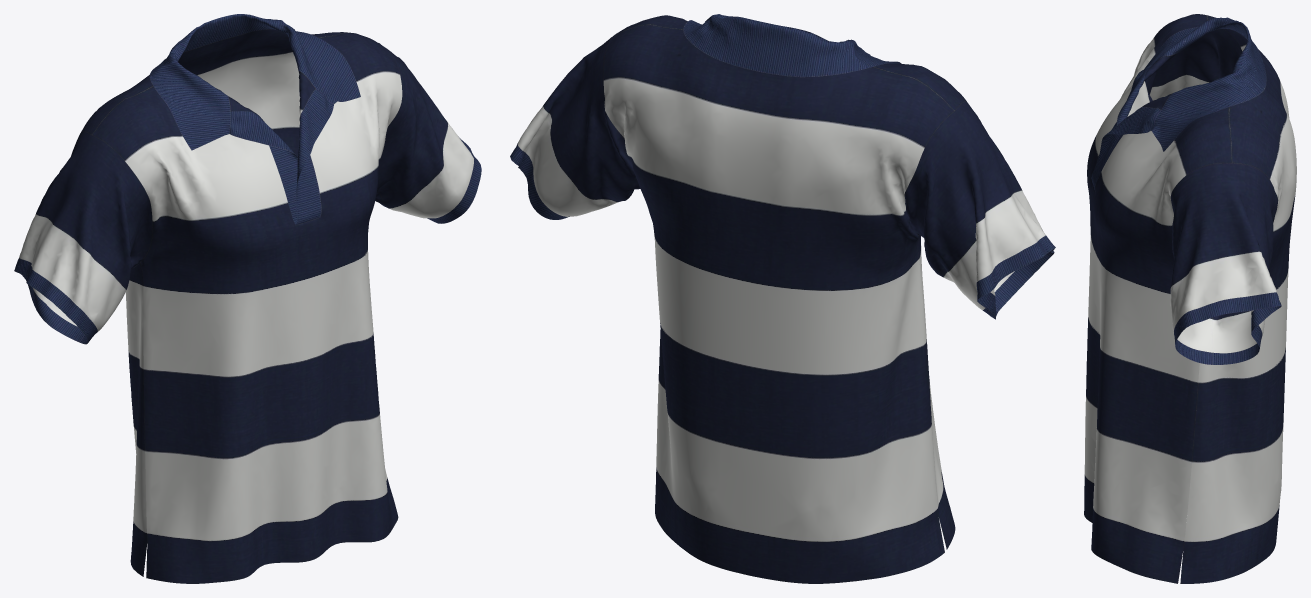
3 views of the same model, side by side, from view 1: azimuth 30°, elevation 25°; view 2: azimuth 150°, elevation 25°; view 3: azimuth 270°, elevation 25° (orthographic). The views are drawn at different scales.
Visible parts, largest first — view 1: AM_102_035_003; view 2: AM_102_035_003; view 3: AM_102_035_003.
Part boxes in pixels (x1,y1,x2,y2): AM_102_035_003: (14,14,481,583); AM_102_035_003: (510,14,1055,583); AM_102_035_003: (1084,14,1296,583).
Size of the model in its own units: 71.86 by 75.6 by 29.32.
1 material, 1 textured.
